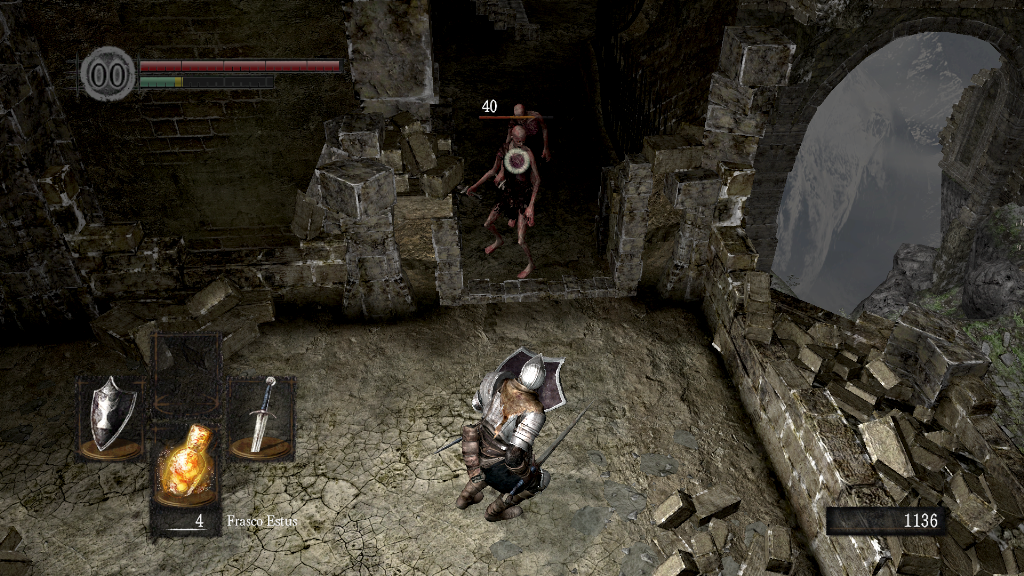health: (138, 58, 343, 71)
hollow: (462, 126, 542, 286), (497, 97, 550, 177)
humanity: (80, 45, 136, 102)
player: (430, 347, 591, 522)
souls: (825, 506, 945, 536)
stamina: (138, 74, 274, 88)
